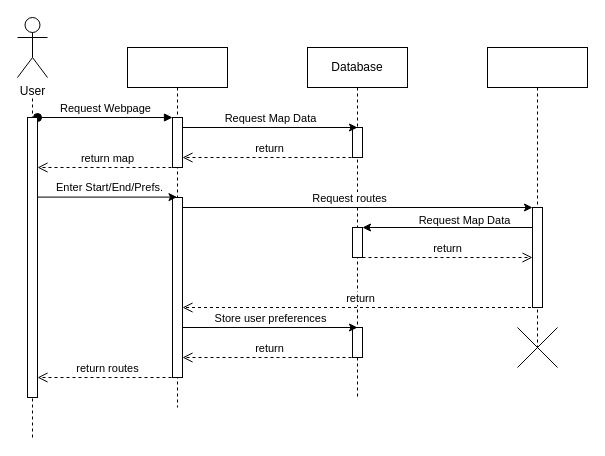
Some shapes in this 605 by 456 pixel diagram are drawn without their labels. The box of each missing label's shape, as (x1, y1, x2, y2) in pixels:
Route Finder: (486, 46, 588, 348)
Server: (126, 46, 228, 408)
